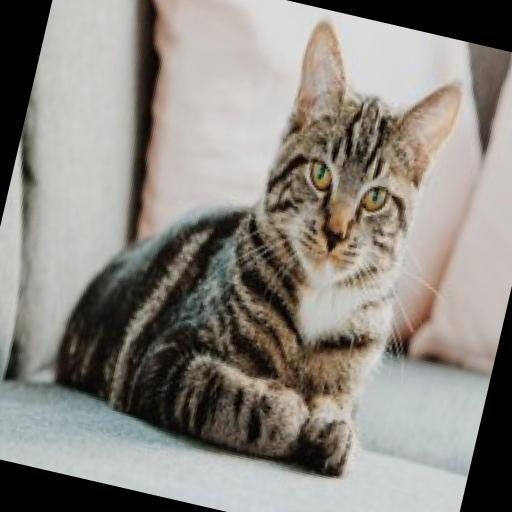cat: (42, 0, 489, 490)
